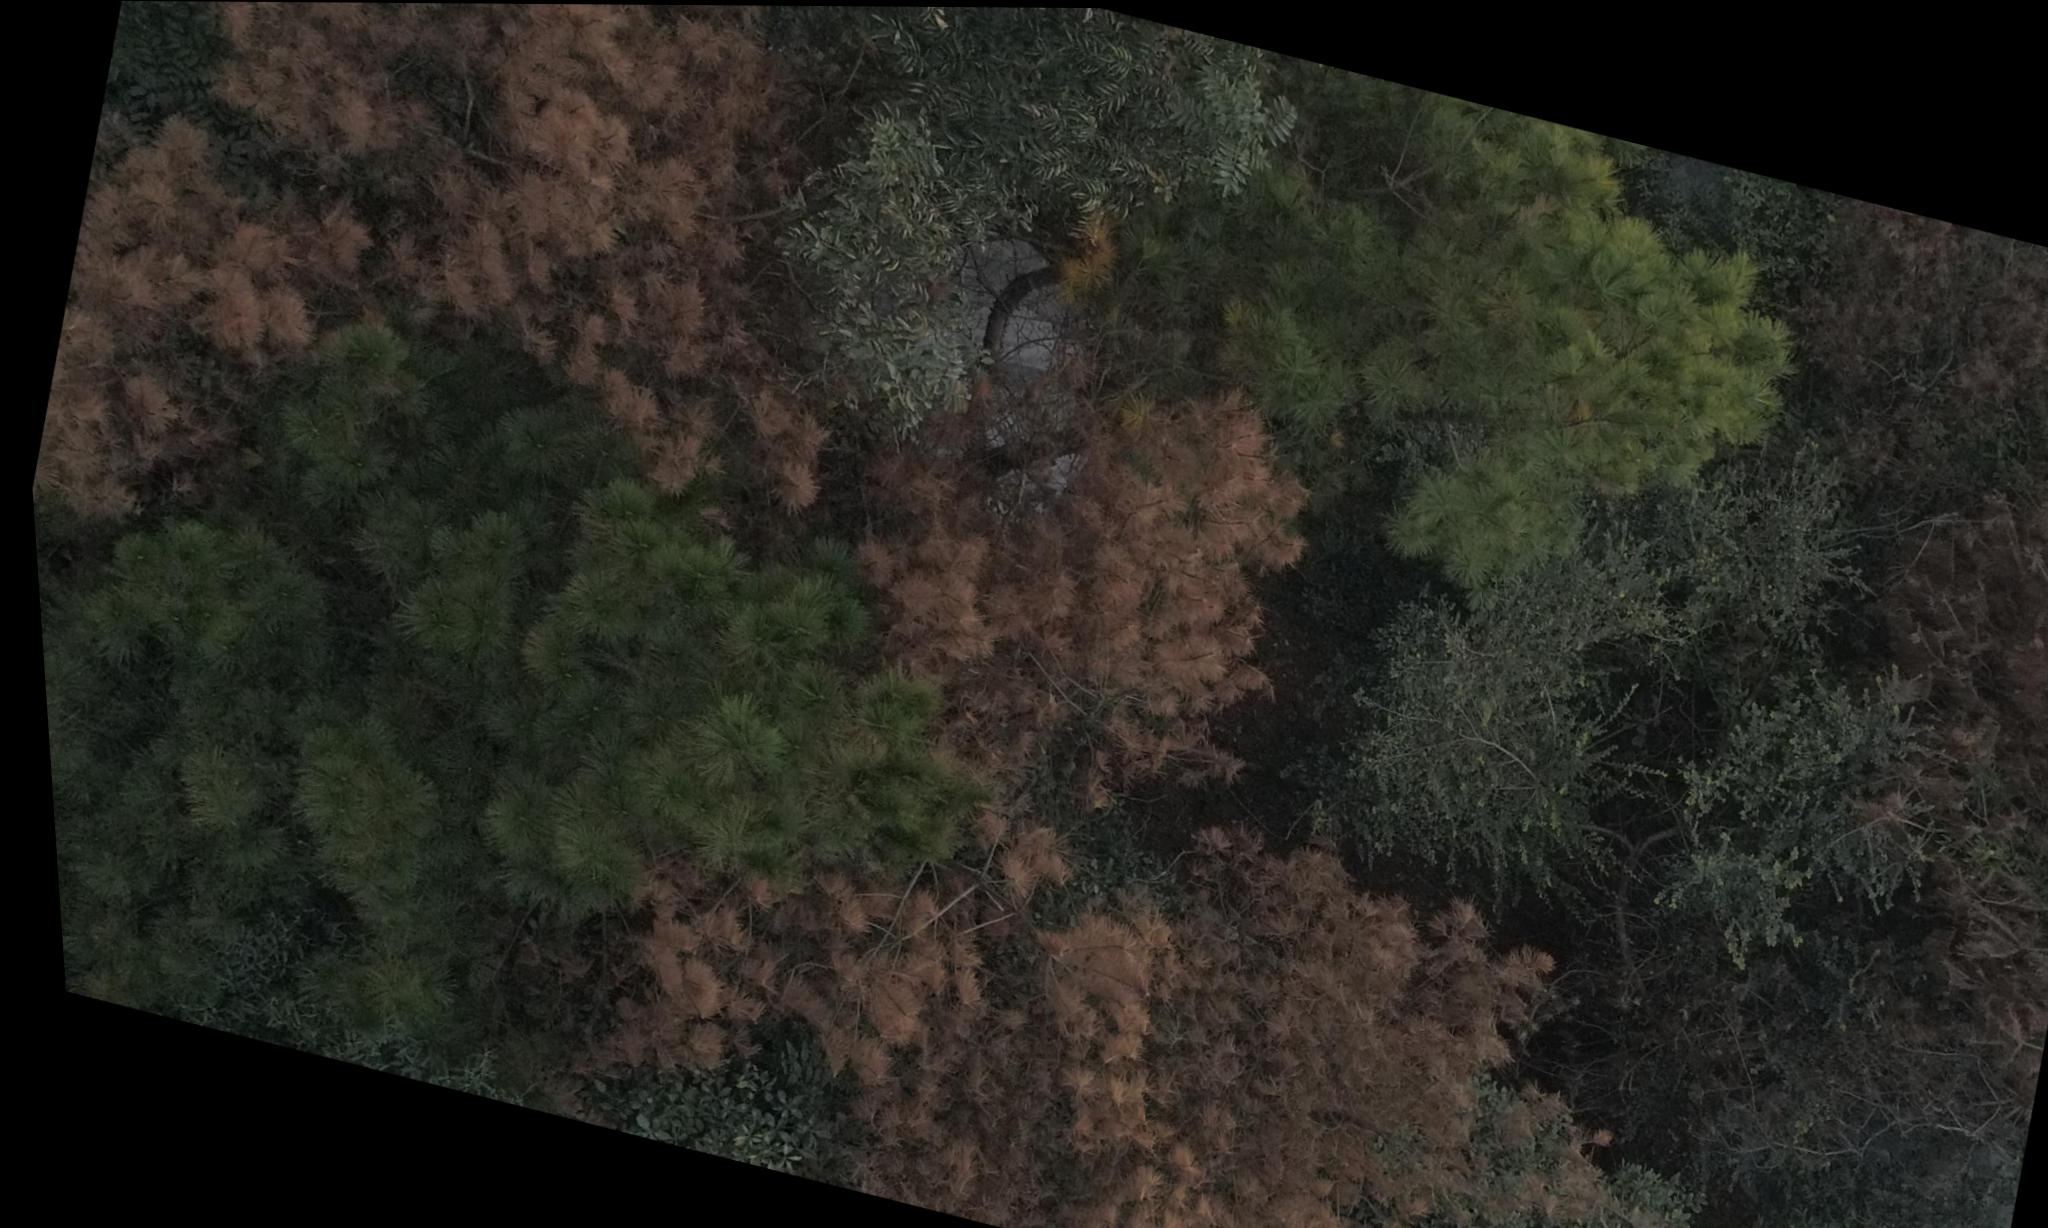heavy: (18, 0, 936, 658), (569, 719, 1497, 1228), (786, 311, 1330, 842)
